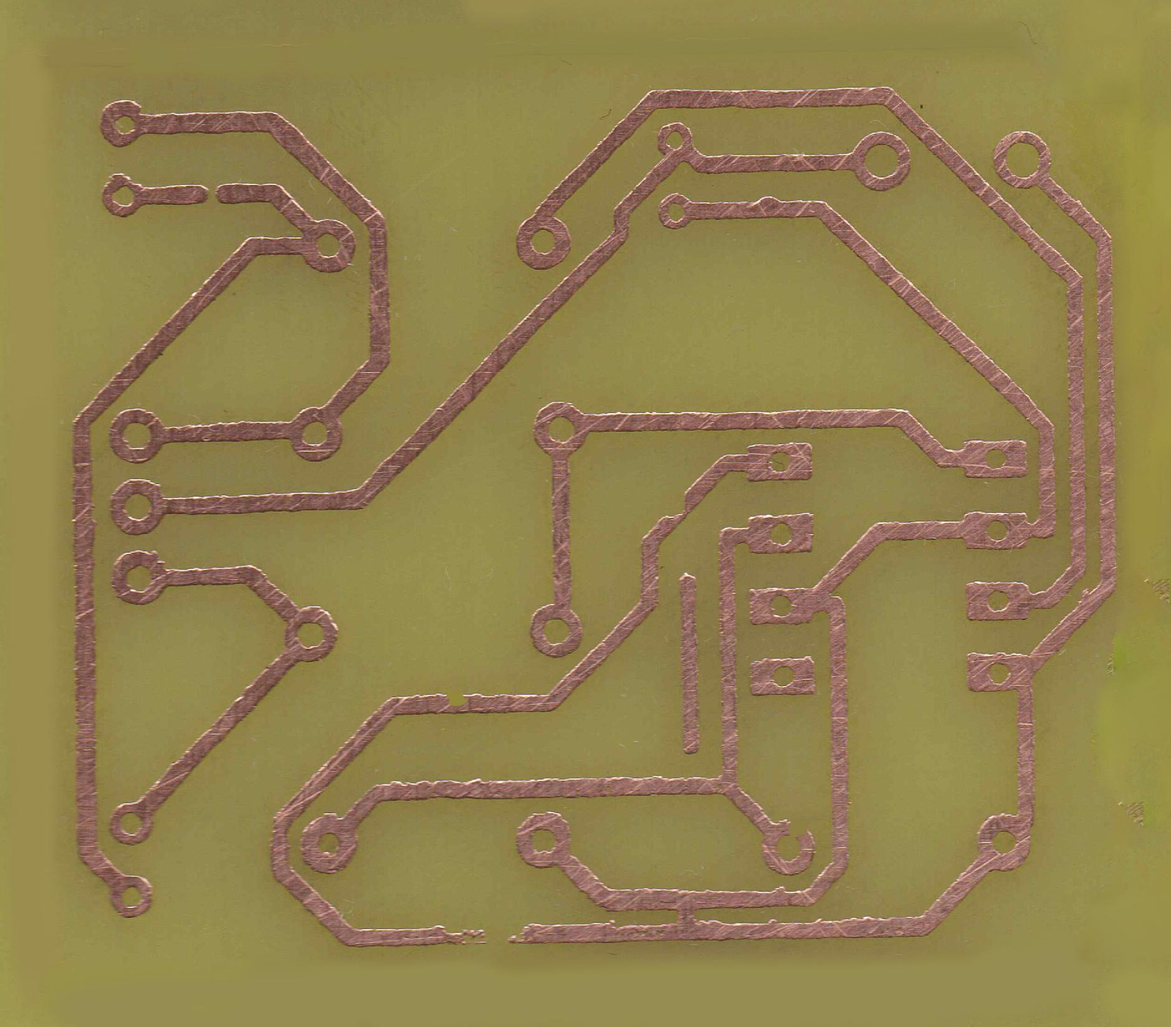missing_hole: (760, 817, 816, 876)
mouse_bite: (444, 689, 471, 719), (664, 494, 693, 520)
open_circuit: (437, 922, 534, 948), (201, 181, 224, 205)
short: (674, 883, 700, 946)
spur: (755, 189, 785, 222), (769, 883, 790, 910)
spurious_copper: (673, 566, 705, 760)
